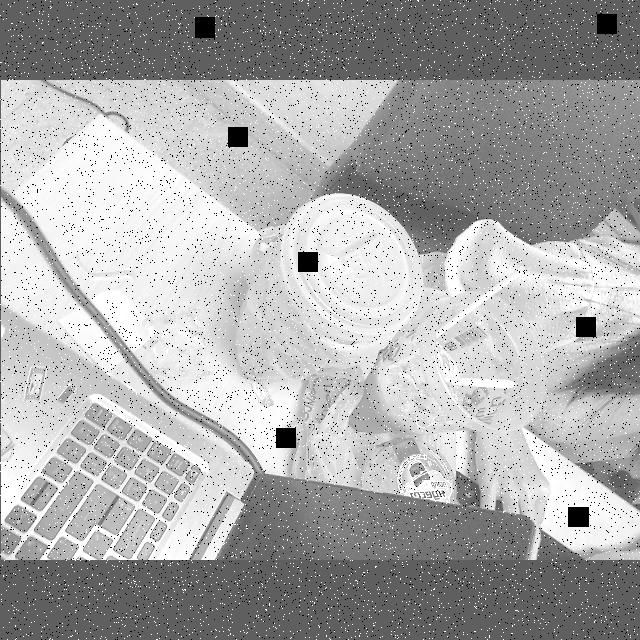plastic_bag: (288, 286, 450, 502), (232, 225, 392, 387)
plastic_cup: (351, 289, 551, 439), (357, 435, 457, 507)
plastic_cup_lid: (276, 190, 430, 344)
scrap_paper: (56, 285, 158, 375)
scrap_plastic: (135, 301, 217, 385), (238, 366, 278, 412)
